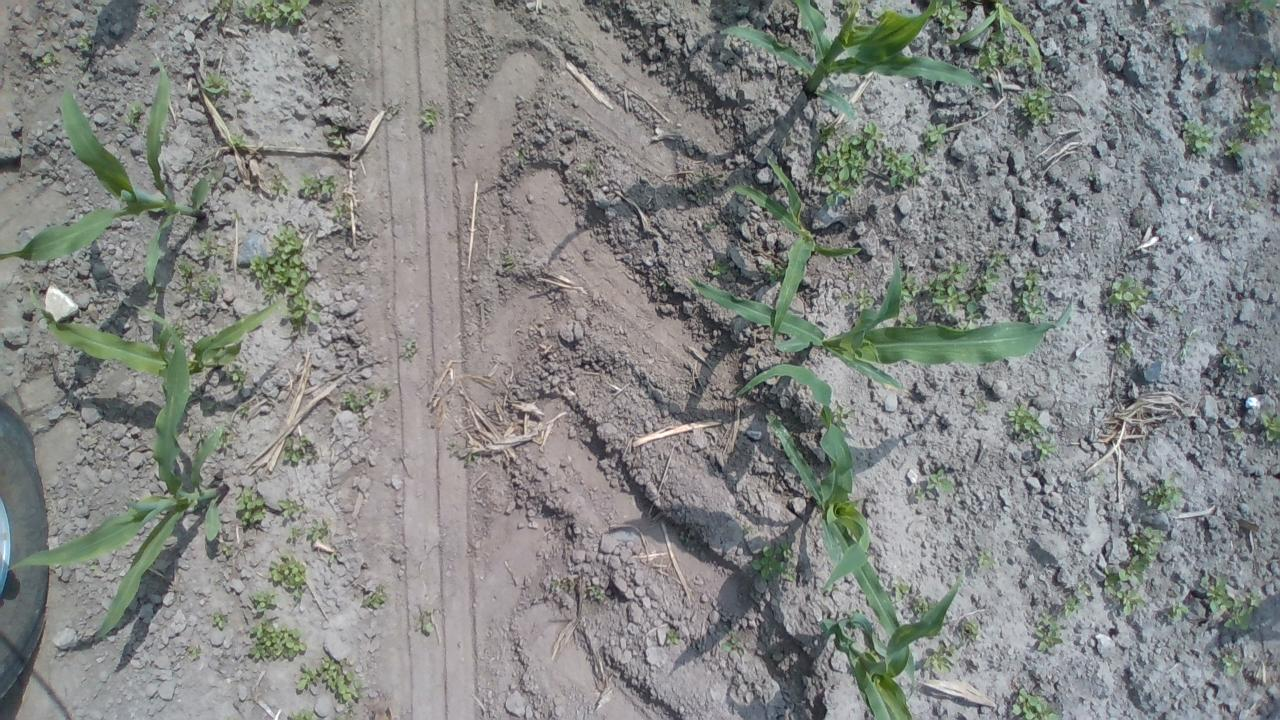Maize: (8, 309, 226, 640), (686, 259, 1072, 387), (0, 54, 212, 286), (764, 409, 920, 691), (721, 0, 991, 122), (21, 276, 283, 376), (730, 156, 862, 336), (820, 579, 966, 720)
Weeds: (248, 224, 323, 326), (942, 0, 1046, 72), (922, 252, 1006, 332), (809, 120, 884, 205), (1100, 528, 1164, 616), (1198, 574, 1262, 630), (298, 655, 368, 703), (976, 30, 1034, 78), (248, 620, 306, 662), (881, 145, 931, 187), (270, 552, 310, 602), (752, 540, 798, 583), (1014, 268, 1048, 322), (1019, 79, 1058, 126), (245, 0, 311, 26), (1010, 687, 1060, 720), (1108, 276, 1149, 312), (1142, 480, 1184, 514), (1007, 404, 1045, 441), (342, 384, 391, 412), (1240, 97, 1274, 137), (1032, 610, 1064, 652), (234, 485, 266, 526), (930, 0, 969, 31), (1180, 120, 1214, 155), (282, 436, 320, 464), (924, 644, 960, 672), (300, 173, 336, 200), (838, 288, 875, 312), (1220, 345, 1248, 375), (922, 120, 947, 153), (176, 255, 197, 294), (898, 270, 920, 307), (197, 272, 222, 304), (830, 399, 854, 432), (1256, 60, 1280, 92), (248, 591, 281, 614), (926, 468, 954, 494), (1229, 0, 1280, 14), (278, 498, 309, 520), (123, 102, 146, 130), (1221, 650, 1248, 673), (215, 416, 235, 447), (198, 74, 229, 94), (720, 630, 744, 655), (198, 238, 227, 258), (1262, 410, 1280, 442), (959, 618, 982, 642), (419, 101, 438, 130), (307, 522, 329, 545), (706, 260, 734, 278), (1225, 136, 1247, 158), (1034, 439, 1056, 461), (760, 262, 784, 282), (362, 591, 388, 609), (325, 127, 347, 146), (893, 578, 911, 601), (224, 368, 244, 388), (1168, 600, 1188, 620), (976, 548, 994, 570), (270, 176, 289, 194), (34, 53, 54, 70), (1188, 46, 1206, 64), (188, 430, 206, 448), (288, 710, 320, 720), (402, 338, 418, 358), (898, 314, 917, 330), (78, 33, 94, 52), (287, 526, 305, 542), (1169, 21, 1186, 37), (912, 598, 929, 614), (1063, 598, 1078, 616), (228, 134, 246, 148), (145, 0, 159, 18), (590, 586, 606, 601), (1117, 342, 1132, 358), (211, 614, 225, 630), (912, 488, 928, 502), (463, 452, 481, 464), (501, 254, 513, 272), (666, 630, 681, 644), (974, 399, 990, 412), (577, 160, 594, 172), (839, 0, 852, 15), (744, 523, 760, 535), (550, 576, 562, 592), (336, 709, 353, 720), (697, 175, 713, 186), (1076, 582, 1088, 596), (421, 622, 434, 634), (1232, 430, 1246, 441), (1247, 199, 1259, 211), (513, 149, 526, 160), (190, 646, 202, 657), (847, 607, 863, 615), (695, 190, 707, 200), (1096, 471, 1106, 483), (223, 544, 232, 556), (239, 404, 249, 414), (336, 205, 344, 217), (208, 175, 216, 187), (702, 224, 716, 230), (88, 561, 97, 570), (848, 271, 856, 280), (240, 92, 252, 98), (1087, 170, 1094, 180), (658, 280, 666, 288), (754, 296, 762, 302)
